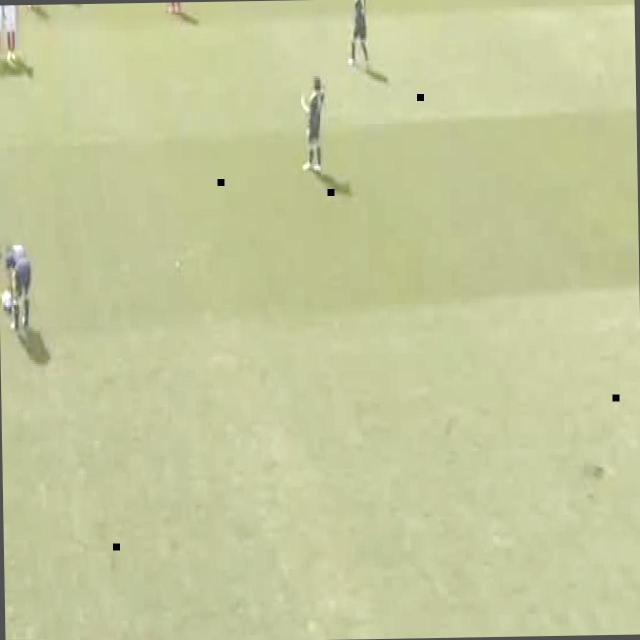ball: (2, 290, 16, 313)
player-white: (3, 240, 34, 333), (300, 72, 326, 176), (345, 0, 371, 71), (4, 5, 18, 61), (0, 5, 4, 56)
